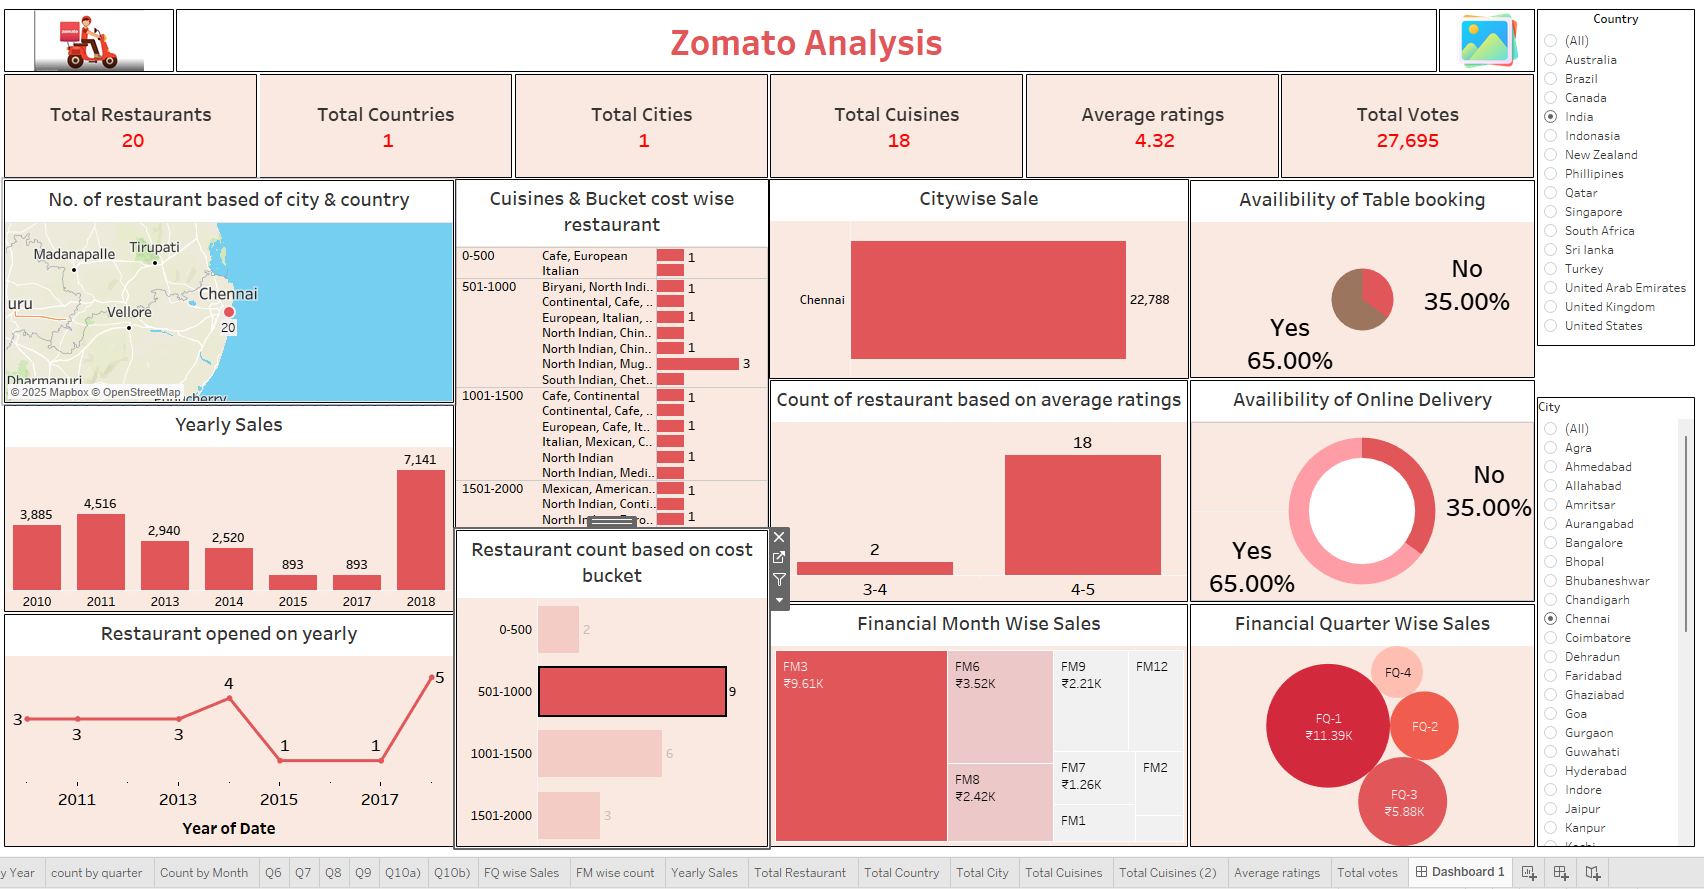

The page's visual inventory and layout, read from the dashboard file:
{"tool":"tableau","page":{"name":"Dashboard 1","canvas":[1000,1000],"units":"permille","ordinal":0},"visuals":[{"type":"image","param":"Image/Zomato.jpg","box":[4.7,9.3,100.8,75.9]},{"type":"text","box":[105.5,9.3,738.8,75.9]},{"type":"dashboard-object","box":[844.2,9.3,57.5,75.9]},{"type":"filter","title":"Q4)","param":"[federated.1rg6yiy19zu2u612a2l9605hf33o].[none:Countryname:nk]","box":[901.7,9.3,93.6,396]},{"type":"worksheet","title":"Total Restaurant","mark":"Automatic","box":[4.7,85.2,149.5,123.9]},{"type":"worksheet","title":"Total Country","mark":"Automatic","box":[154.2,85.2,149.5,123.9]},{"type":"worksheet","title":"Total City","mark":"Automatic","box":[303.7,85.2,149.5,123.9]},{"type":"worksheet","title":"Total Cuisines","mark":"Automatic","box":[453.2,85.2,149.5,123.9]},{"type":"worksheet","title":"Average ratings","mark":"Automatic","box":[602.7,85.2,149.5,123.9]},{"type":"worksheet","title":"Total votes","mark":"Automatic","box":[752.2,85.2,149.5,123.9]},{"type":"worksheet","title":"Q4)","mark":"Automatic","box":[4.7,209.1,264.5,262.9]},{"type":"worksheet","title":"Q10a)","mark":"Automatic","rows":["Calculation_607704513475260421","Cuisines"],"cols":["RestaurantName"],"box":[269.2,209.1,183.7,408.9]},{"type":"worksheet","title":"Q10b)","mark":"Automatic","rows":["City"],"cols":["Calculation_663999512746430464"],"box":[452.9,209.1,245.7,234]},{"type":"worksheet","title":"Q8","mark":"Pie","box":[698.6,209.1,203.1,233.6]},{"type":"worksheet","title":"Q9","mark":"Pie","rows":["Calculation_438538052595245057","Calculation_438538052595257347"],"box":[698.6,442.7,203.1,262.2]},{"type":"worksheet","title":"Q6","mark":"Automatic","rows":["RestaurantName"],"cols":["Calculation_607704513473490948"],"box":[452.9,443.1,245.7,261.4]},{"type":"filter","title":"Q4)","param":"[federated.1rg6yiy19zu2u612a2l9605hf33o].[none:City:nk]","box":[901.7,462.6,93.6,528]},{"type":"worksheet","title":"Yearly Sales","mark":"Bar","rows":["Calculation_663999512746430464"],"cols":["Date"],"box":[4.7,472,264.5,244.5]},{"type":"worksheet","title":"Q7","mark":"Automatic","rows":["Calculation_607704513475260421"],"cols":["RestaurantName"],"box":[269.2,618,183.7,372.7]},{"type":"worksheet","title":"FM wise count","mark":"Automatic","box":[452.9,704.4,245.7,286.2]},{"type":"worksheet","title":"FQ wise Sales","mark":"Circle","box":[698.6,705,203.1,285.7]},{"type":"worksheet","title":"Count by Year","mark":"Automatic","rows":["RestaurantName"],"cols":["Date"],"box":[4.7,716.4,264.5,274.2]},{"type":"worksheet","title":"count by quarter","mark":"Automatic","rows":["RestaurantName"],"cols":["Date"],"box":[4.7,716.5,264.7,274.2]},{"type":"worksheet","title":"Count by Month","mark":"Automatic","rows":["RestaurantName"],"cols":["Date"],"box":[4.7,716.5,264.7,274.2]}]}

Visuals, with their boxes on the dashboard's canvas, which has no fixed pixel size, in thousandths of its width and height (x1, y1, x2, y2). These are canvas units, not pixel positions in the 1704x889 screenshot, which may show the page scaled, cropped or inside an application window:
image: bbox=[5, 9, 106, 85]
text: bbox=[106, 9, 844, 85]
dashboard-object: bbox=[844, 9, 902, 85]
"Q4)" filter: bbox=[902, 9, 995, 405]
"Total Restaurant" worksheet: bbox=[5, 85, 154, 209]
"Total Country" worksheet: bbox=[154, 85, 304, 209]
"Total City" worksheet: bbox=[304, 85, 453, 209]
"Total Cuisines" worksheet: bbox=[453, 85, 603, 209]
"Average ratings" worksheet: bbox=[603, 85, 752, 209]
"Total votes" worksheet: bbox=[752, 85, 902, 209]
"Q4)" worksheet: bbox=[5, 209, 269, 472]
"Q10a)" worksheet: bbox=[269, 209, 453, 618]
"Q10b)" worksheet: bbox=[453, 209, 699, 443]
"Q8" worksheet (Pie marks): bbox=[699, 209, 902, 443]
"Q9" worksheet (Pie marks): bbox=[699, 443, 902, 705]
"Q6" worksheet: bbox=[453, 443, 699, 704]
"Q4)" filter: bbox=[902, 463, 995, 991]
"Yearly Sales" worksheet (Bar marks): bbox=[5, 472, 269, 716]
"Q7" worksheet: bbox=[269, 618, 453, 991]
"FM wise count" worksheet: bbox=[453, 704, 699, 991]
"FQ wise Sales" worksheet (Circle marks): bbox=[699, 705, 902, 991]
"Count by Year" worksheet: bbox=[5, 716, 269, 991]
"count by quarter" worksheet: bbox=[5, 716, 269, 991]
"Count by Month" worksheet: bbox=[5, 716, 269, 991]
